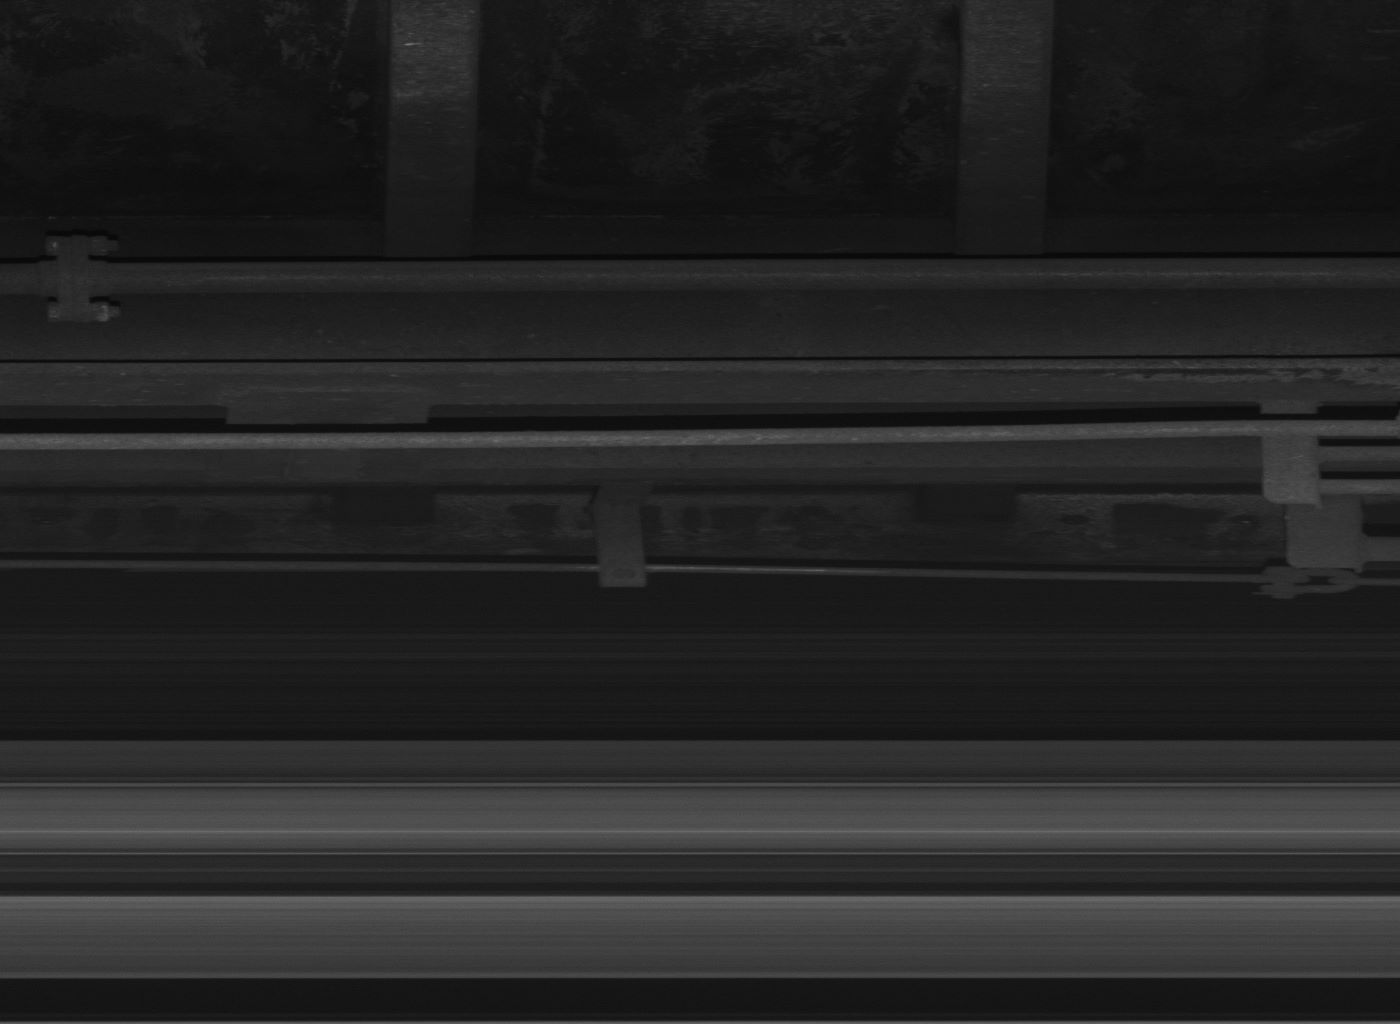normal: (595, 480, 648, 590)
upper lever: (1261, 403, 1324, 505)
